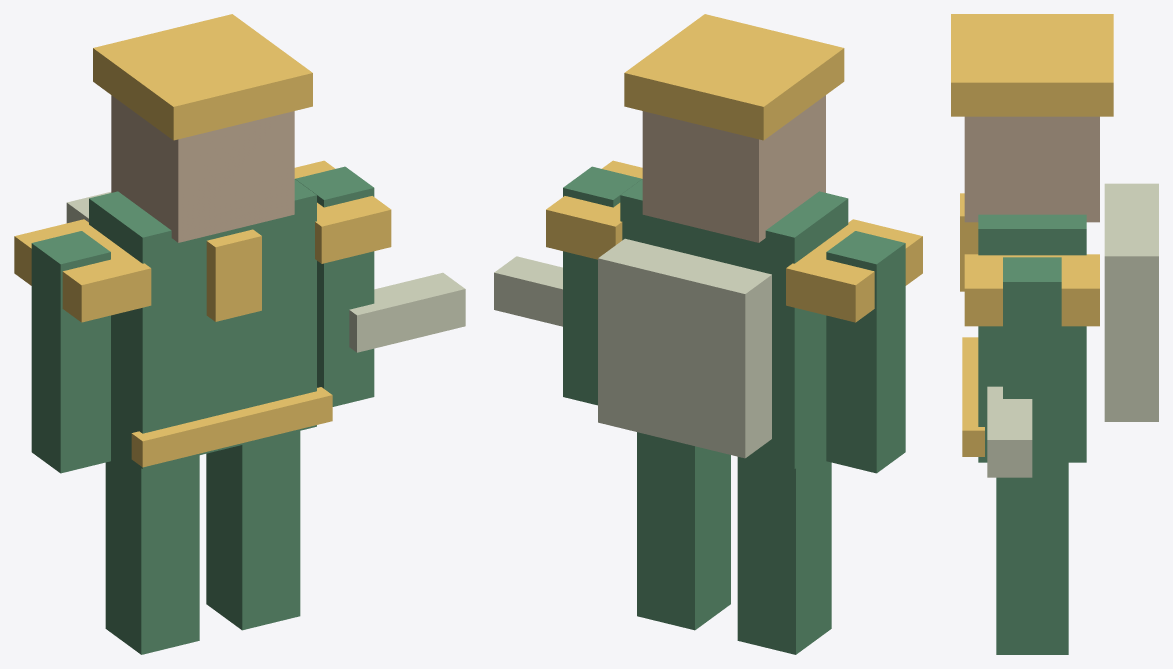
The model's file is 16_pax_tideforged_broker_of.glb.
3 renders of one model, left to right at view 1: azimuth 30°, elevation 25°; view 2: azimuth 150°, elevation 25°; view 3: azimuth 270°, elevation 25°, orthographic.
Parts seen in each view (by area): view 1: Pax Tideforged, Broker of; view 2: Pax Tideforged, Broker of; view 3: Pax Tideforged, Broker of.
Part boxes in pixels (box(x1,y1,x2,y2)): Pax Tideforged, Broker of: box(14, 14, 465, 654); Pax Tideforged, Broker of: box(494, 14, 922, 654); Pax Tideforged, Broker of: box(951, 14, 1158, 654).
Bounding box in the file's own units: 1.04 × 1.41 × 0.4674.
